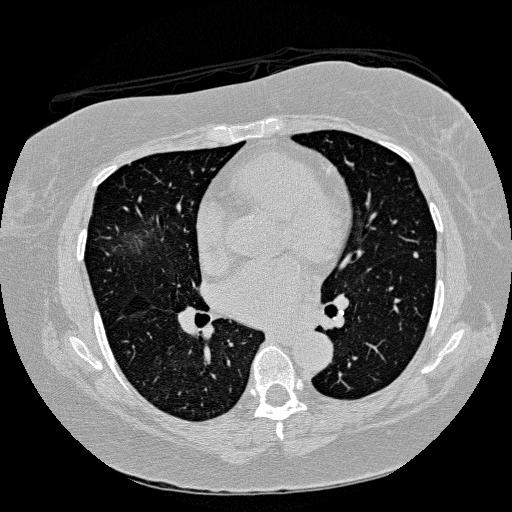nodule: (410, 250, 421, 261)
